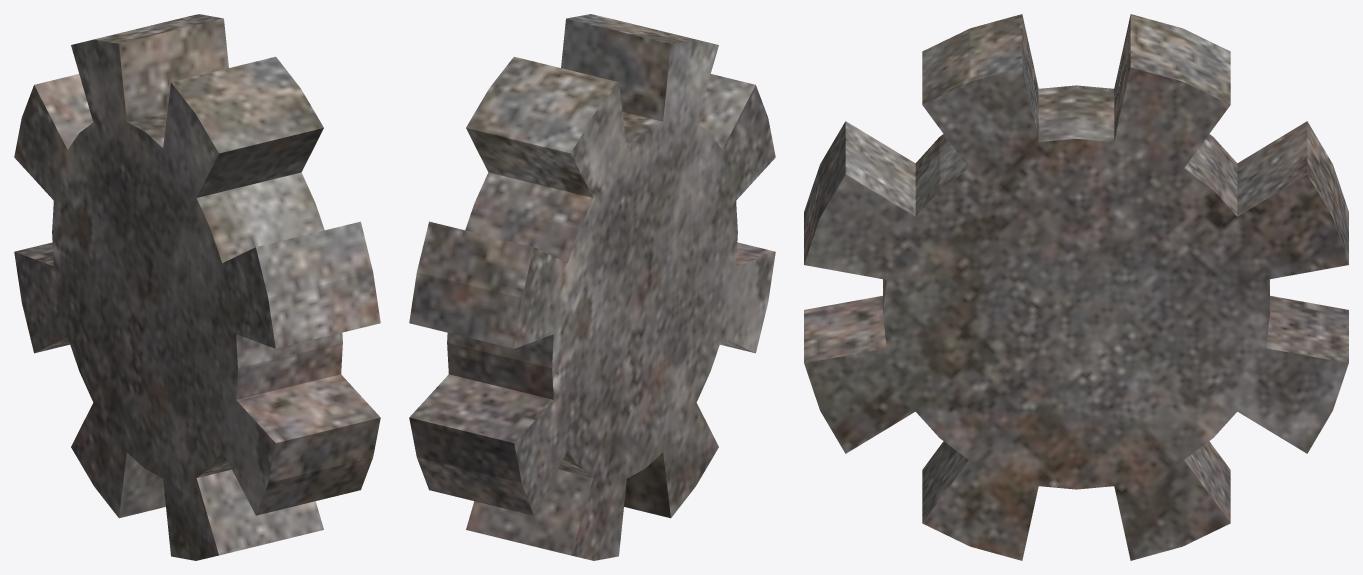
Rendered from Gear.fbx.
3 renders of one model, left to right at view 1: azimuth 30°, elevation 25°; view 2: azimuth 150°, elevation 25°; view 3: azimuth 270°, elevation 25°, orthographic. The views are drawn at different scales.
Parts seen in each view (by area): view 1: Gear; view 2: Gear; view 3: Gear.
Part boxes in pixels (x1,y1,x2,y2): Gear: [14, 14, 380, 560]; Gear: [409, 14, 775, 560]; Gear: [804, 14, 1348, 560].
Size of the model in its own units: 4.64 by 20.04 by 20.04.
Materials: 1 (1 with a texture image).
